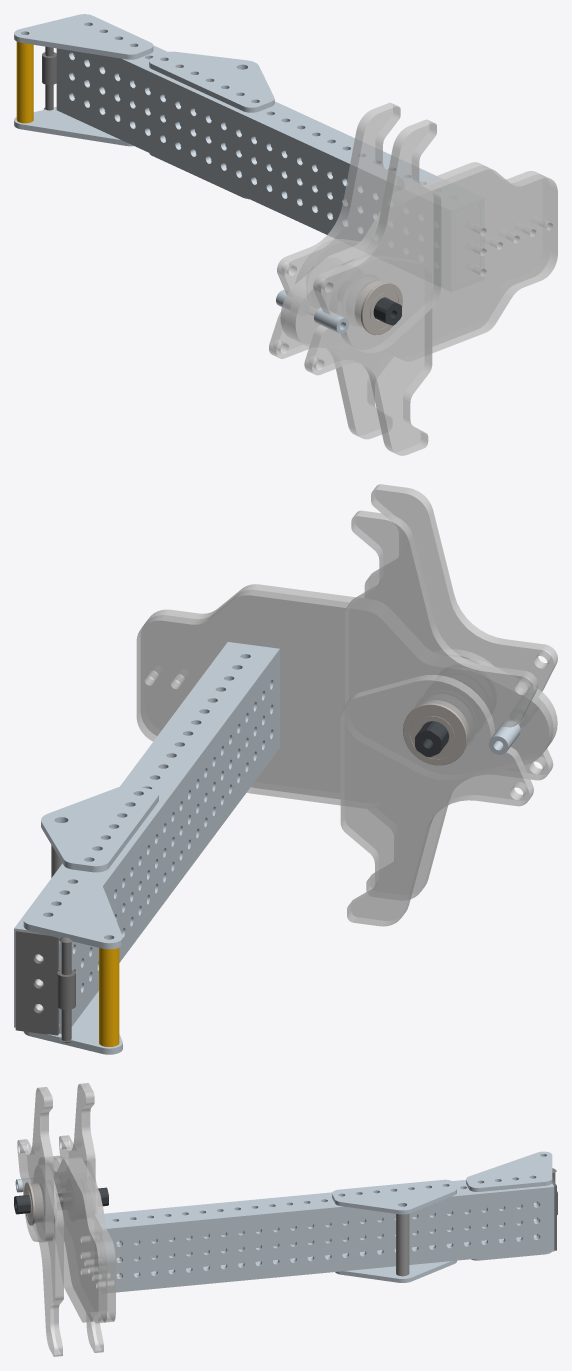
The picture shows the model from 3 angles, top to bottom: view 1: azimuth 30°, elevation 25°; view 2: azimuth 150°, elevation 25°; view 3: azimuth 270°, elevation 25°; orthographic projection. The views are drawn at different scales.
Parts seen in each view (by area): view 1: 1678-25-P-0502 (×2), 1678-25-P-0501 (×4), 1678-25-P-0507, Part 20 (×2), Part 11, Thunderhex ID 1.125 OD Flanged Bearing (217-4006), Part 21, 1678-25-P-0503, 1678-25-P-0504; view 2: 1678-25-P-0501 (×4), 1678-25-P-0502 (×2), 1678-25-P-0507, Part 20 (×2), Part 11, 1624A66_304 Stainless Steel Hinge without Holes (×2), Thunderhex ID 1.125 OD Flanged Bearing (217-4006), Part 21, 1678-25-P-0503, 1678-25-P-0504; view 3: 1678-25-P-0507, 1678-25-P-0502 (×2), 1678-25-P-0501 (×4), Part 11 (×2), Part 20, 1678-25-P-0515, Thunderhex ID 1.125 OD Flanged Bearing (217-4006), 1678-25-P-0503.
Part boxes in pixels (x1,y1,x2,y2): 1678-25-P-0502 (×2): (280, 162, 557, 360); 1678-25-P-0501 (×4): (269, 102, 441, 455); 1678-25-P-0507: (56, 45, 443, 240); Part 20 (×2): (14, 14, 153, 146); Part 11: (149, 51, 274, 112); Thunderhex ID 1.125 OD Flanged Bearing (217-4006): (355, 281, 402, 335); Part 21: (16, 41, 33, 123); 1678-25-P-0503: (373, 297, 401, 325); 1678-25-P-0504: (314, 307, 348, 333); 1678-25-P-0501 (×4): (340, 484, 557, 926); 1678-25-P-0502 (×2): (136, 584, 557, 808); 1678-25-P-0507: (14, 642, 279, 1033); Part 20 (×2): (23, 872, 122, 1054); Part 11: (41, 786, 158, 872); 1624A66_304 Stainless Steel Hinge without Holes (×2): (15, 929, 75, 1042); Thunderhex ID 1.125 OD Flanged Bearing (217-4006): (403, 700, 468, 765); Part 21: (99, 948, 119, 1046); 1678-25-P-0503: (415, 721, 448, 757); 1678-25-P-0504: (488, 720, 520, 754); 1678-25-P-0507: (95, 1180, 554, 1292); 1678-25-P-0502 (×2): (38, 1155, 115, 1323); 1678-25-P-0501 (×4): (17, 1083, 103, 1356); Part 11 (×2): (332, 1179, 456, 1282); Part 20: (466, 1151, 552, 1191); 1678-25-P-0515: (396, 1214, 409, 1276); Thunderhex ID 1.125 OD Flanged Bearing (217-4006): (24, 1182, 43, 1225); 1678-25-P-0503: (14, 1187, 108, 1214).
Size of the model in its own units: 0.199 by 0.2053 by 0.3881.
